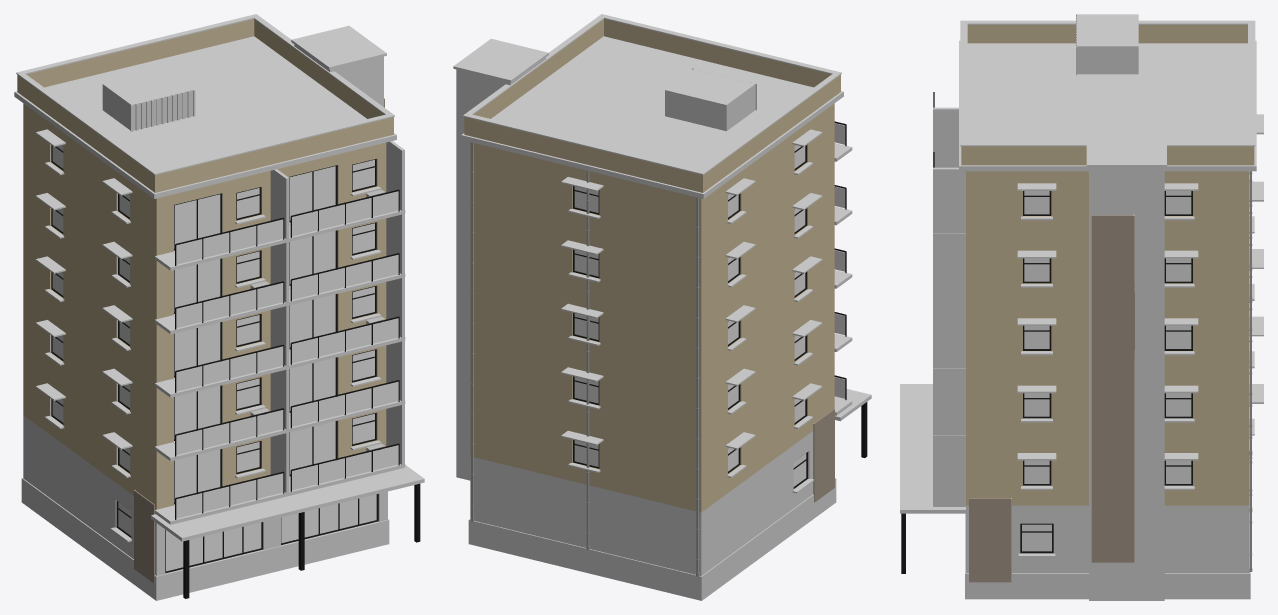
The model's file is apartment_12x12_6.glb.
The picture shows the model from 3 angles, left to right: view 1: azimuth 30°, elevation 25°; view 2: azimuth 150°, elevation 25°; view 3: azimuth 270°, elevation 25°; orthographic projection. The views are drawn at different scales.
Parts seen in each view (by area): view 1: apartment_12x12_6; view 2: apartment_12x12_6; view 3: apartment_12x12_6.
Part boxes in pixels (x1,y1,x2,y2): apartment_12x12_6: (14,14,424,600); apartment_12x12_6: (453,14,871,600); apartment_12x12_6: (900,14,1263,600).
Bounding box in the file's own units: 15.53 × 22.35 × 15.41.
